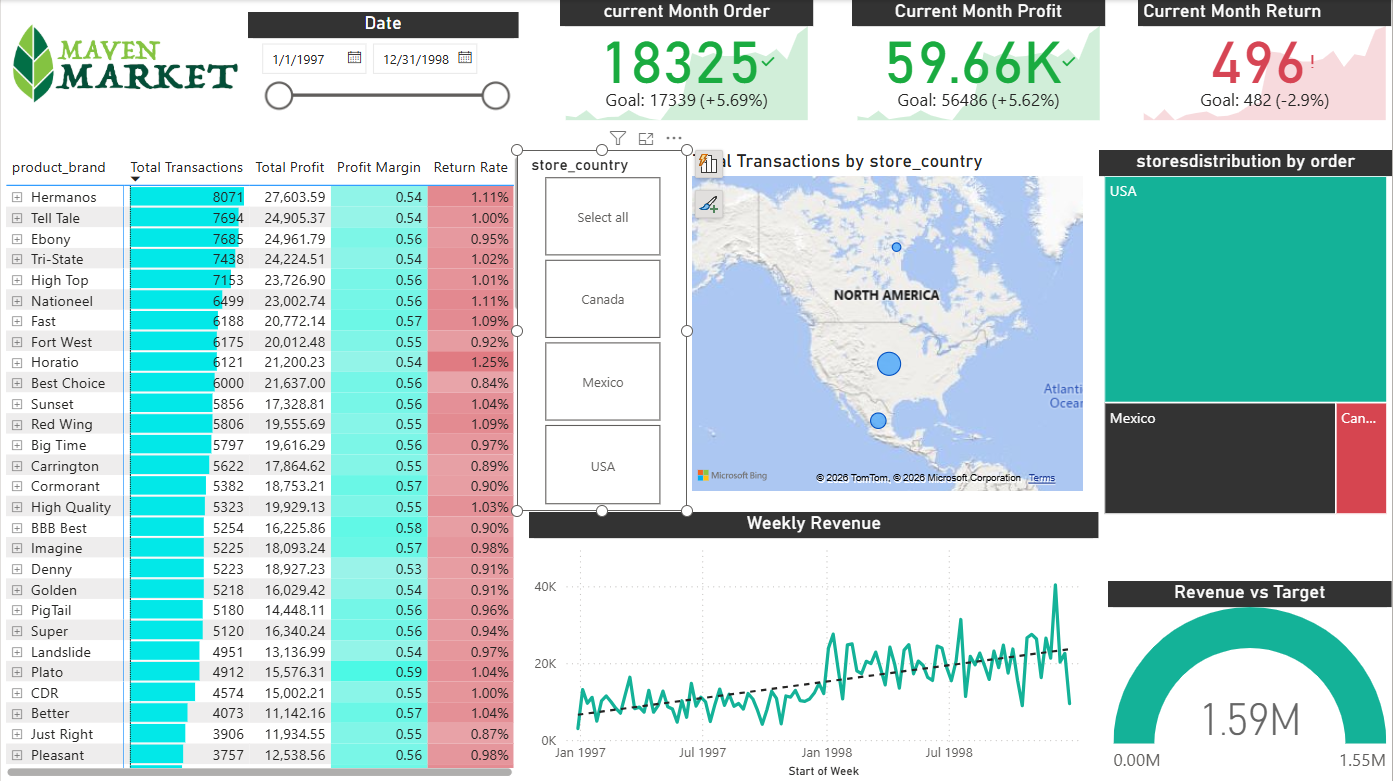

The page's visual inventory and layout, read from the dashboard file:
{"tool":"powerbi","page":{"name":"Page 1","canvas":[1280,720],"ordinal":0},"visuals":[{"type":"pivotTable","fields":{"Rows":["Products.product_brand","Products.product_name"],"Values":["measure.Total Sales","measure.Total Profit","measure.Profit Margin","measure.Return Rate"]},"box":[0,137.8,485.6,582.2],"z":0},{"type":"slicer","title":"Date","fields":{"Values":["Calendar.date"]},"box":[227.5,10.7,249,104.8],"z":1000},{"type":"lineChart","title":"Weekly Revenue","fields":{"Y":["measure.Revenue"],"Category":["Calendar.Start of Week"]},"box":[485.6,471.1,524.4,248.9],"z":2000},{"type":"gauge","title":"Revenue vs Target","fields":{"Y":["measure.Revenue"],"MaxValue":["measure.target revenue"]},"box":[1018.9,534.4,261.1,185.6],"z":3000},{"type":"treemap","title":"storesdistribution by order","fields":{"Group":["Stores.store_country"],"Values":["measure.Total Sales"]},"box":[1010,137.8,270,340],"z":4000},{"type":"kpi","title":"current Month Order","fields":{"TrendLine":["Calendar.Start of Month"],"Goal":["measure.last month transaction"],"Indicator":["measure.Total Sales"]},"box":[514.4,0,233.3,115.6],"z":5000},{"type":"kpi","title":"Current Month Profit","fields":{"Indicator":["measure.Total Profit"],"Goal":["measure.Last Month Profit"],"TrendLine":["Calendar.Start of Month"]},"box":[783.3,0,233,115.6],"z":6000},{"type":"kpi","title":"Current Month Return","fields":{"Goal":["measure.last month return"],"TrendLine":["Calendar.Start of Month"],"Indicator":["measure.Total Return"]},"box":[1046.7,0,233.3,115.6],"z":7000},{"type":"map","fields":{"Size":["measure.Total Transactions"],"Category":["Stores.store_country"]},"box":[630.9,138.1,368.9,319.5],"z":8000},{"type":"slicer","fields":{"Values":["Stores.store_country"]},"box":[474.7,138.1,156.2,332.6],"z":9000},{"type":"image","box":[0,0,227.5,115.5],"z":10000}]}

Visuals, with their boxes in screenshot pixels (x1, y1, x2, y2), scaled from the page's 1280x720 canvas onto the 1393x781 screenshot:
pivotTable - Products.product_brand x Products.product_name: rect(0, 149, 528, 780)
"Date" slicer: rect(248, 12, 519, 125)
"Weekly Revenue" lineChart: rect(528, 511, 1099, 780)
"Revenue vs Target" gauge: rect(1109, 580, 1392, 780)
"storesdistribution by order" treemap: rect(1099, 149, 1392, 518)
"current Month Order" kpi: rect(560, 0, 814, 125)
"Current Month Profit" kpi: rect(852, 0, 1106, 125)
"Current Month Return" kpi: rect(1139, 0, 1392, 125)
map - measure.Total Transactions x Stores.store_country: rect(687, 150, 1088, 496)
slicer - Stores.store_country: rect(517, 150, 687, 511)
image: rect(0, 0, 248, 125)
